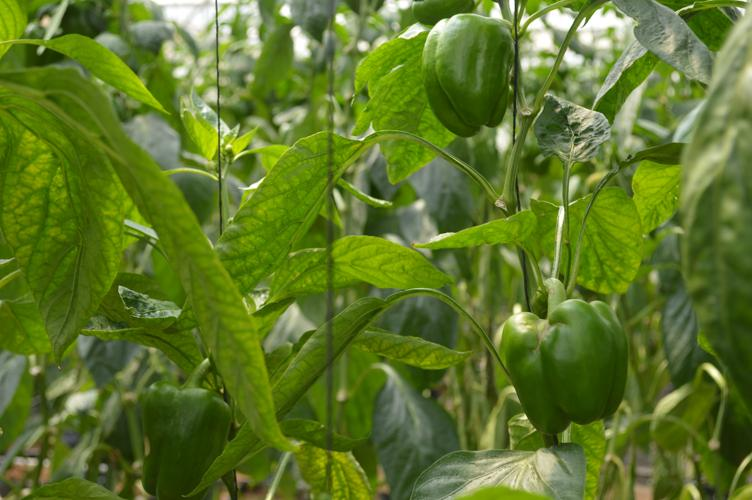BellPepper: (492, 301, 632, 431), (418, 16, 507, 135), (133, 388, 228, 491)
